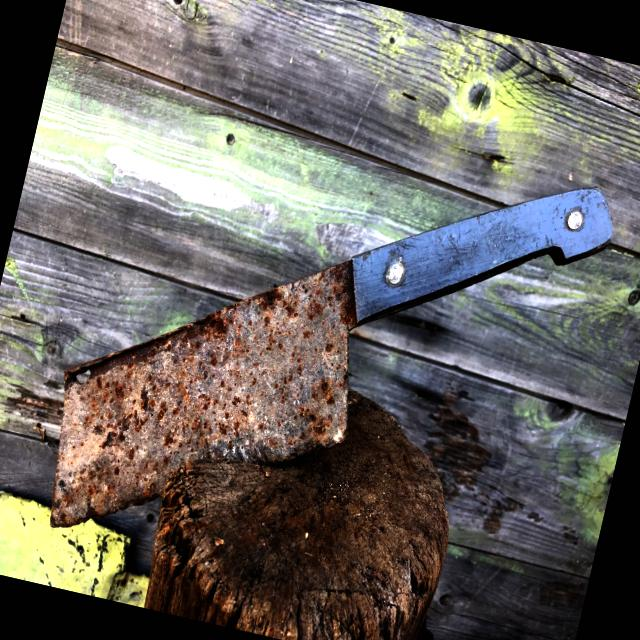cleaver: (42, 85, 617, 639)
